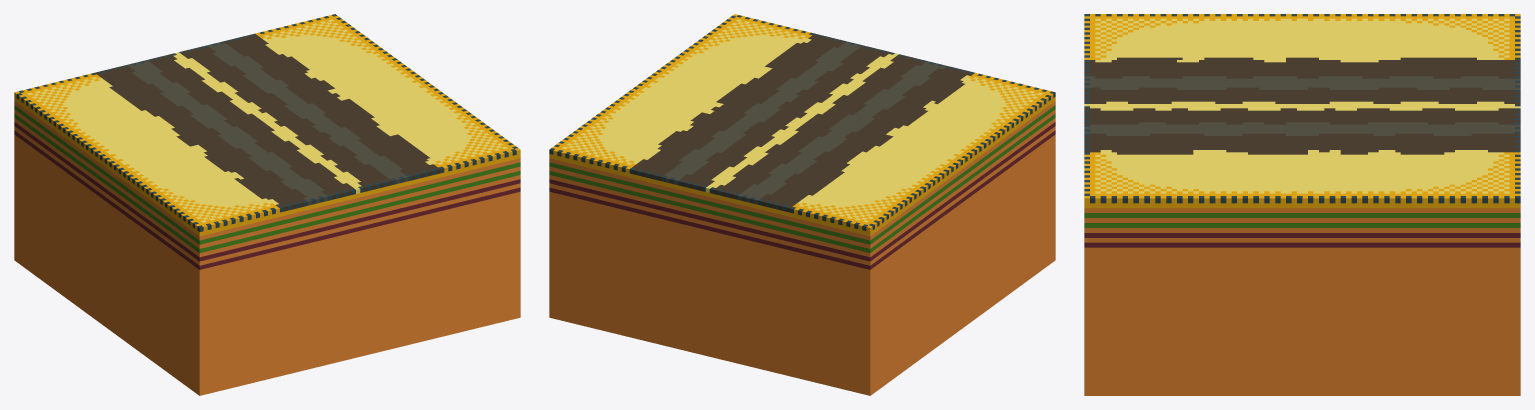
The model's file is sand_dirt_road_1_tile.obj.
3 views of the same model, side by side, from view 1: azimuth 30°, elevation 25°; view 2: azimuth 150°, elevation 25°; view 3: azimuth 270°, elevation 25° (orthographic). The views are drawn at different scales.
Bounding box in the file's own units: 8 × 4 × 8.
Materials: 1 (1 with a texture image).
